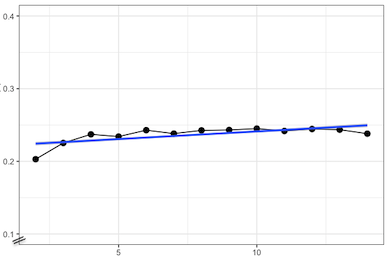OK_NoIssue: (4, 0, 386, 256)
